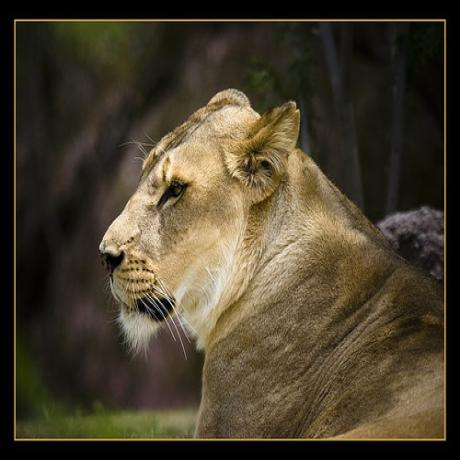Lion: (97, 85, 446, 439)
